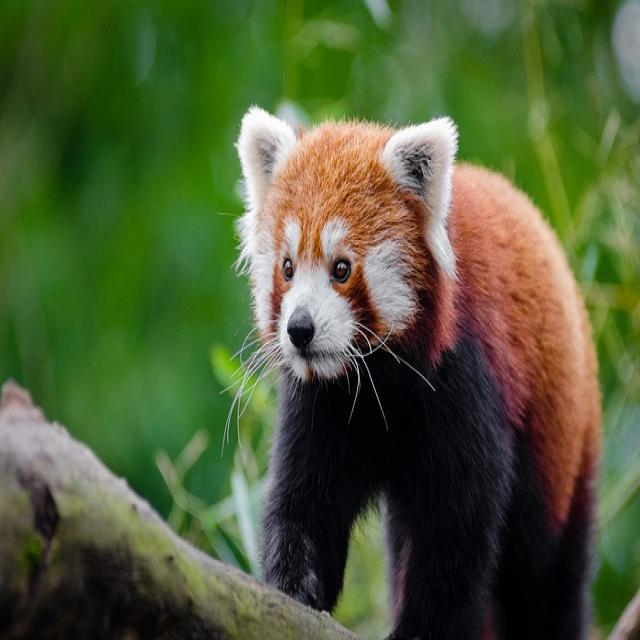Carnivorous: (233, 107, 604, 640)
